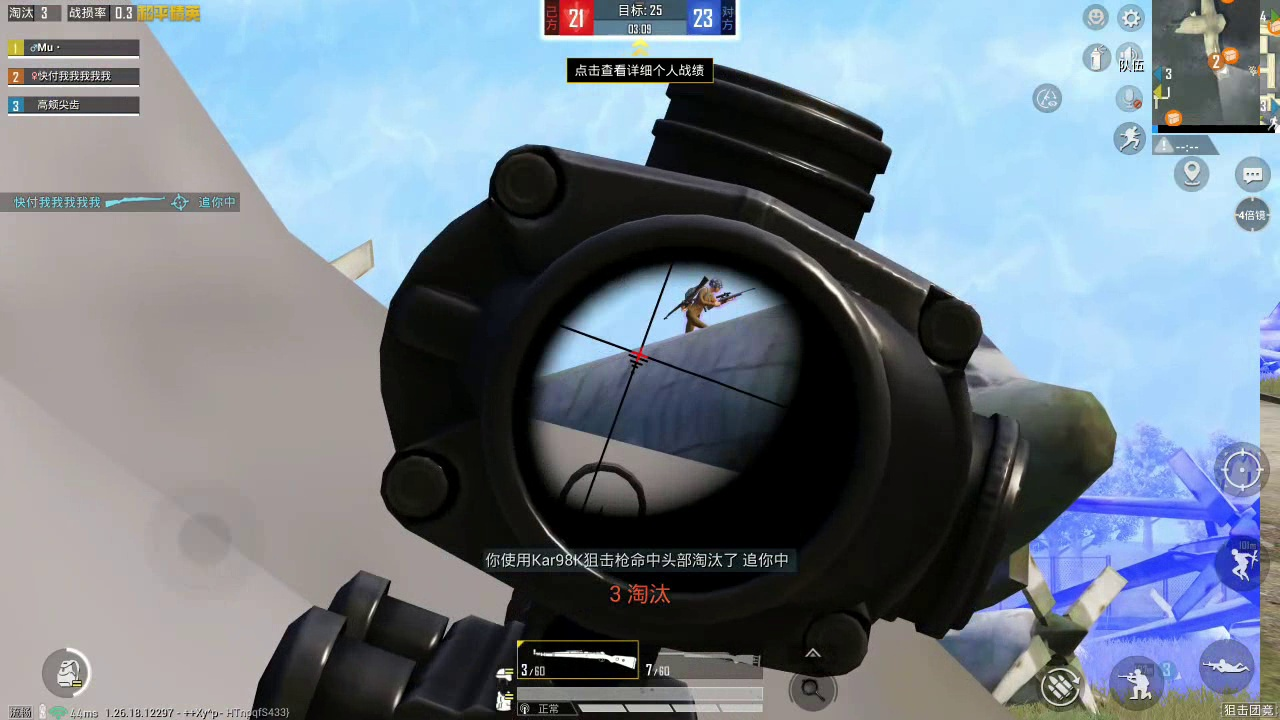enemy: (677, 276, 731, 329)
